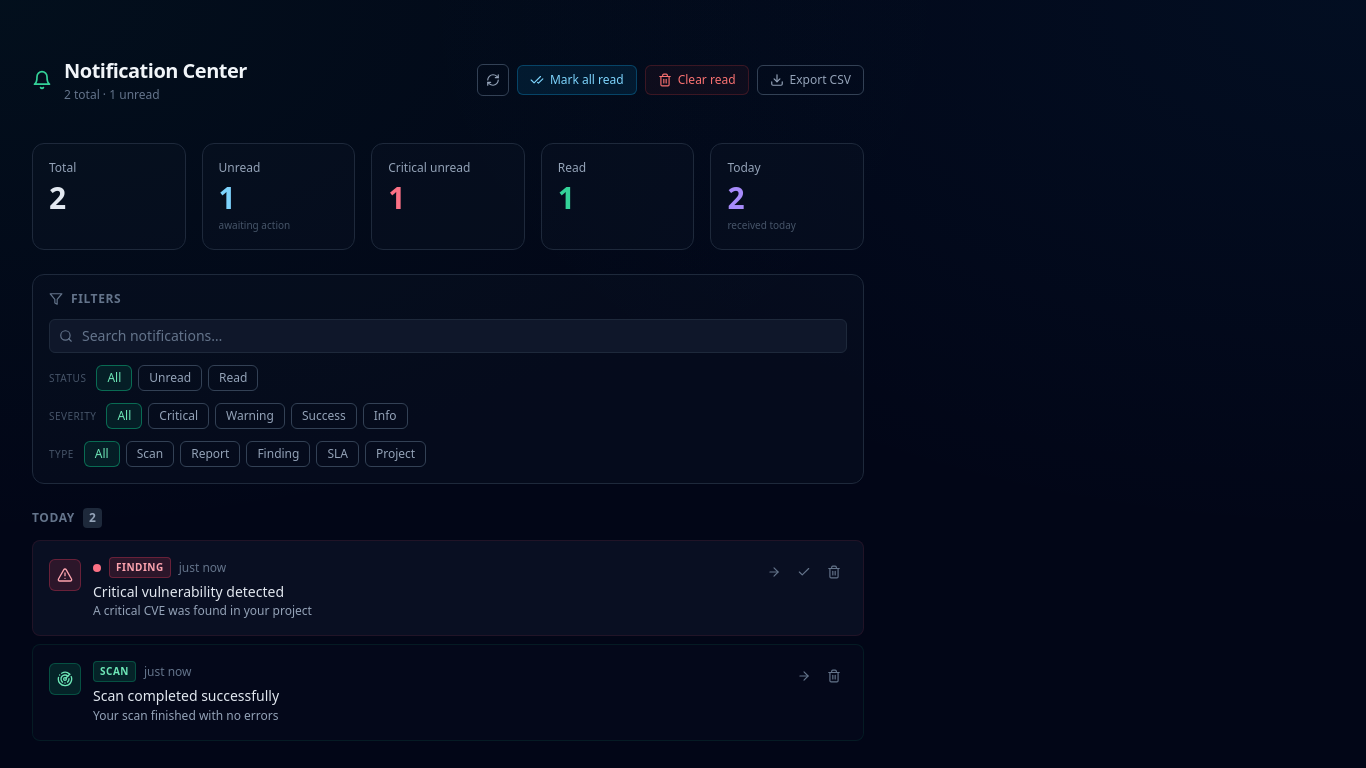
it: Notifications — search › filters by title text via search input
Expected: the text "Scan completed successfully" is shown, [93,686,279,705]
Type "critical" into the field with placeholder "Search notifications…".
click(448, 336); type("critical")  # box [49,319,847,353]
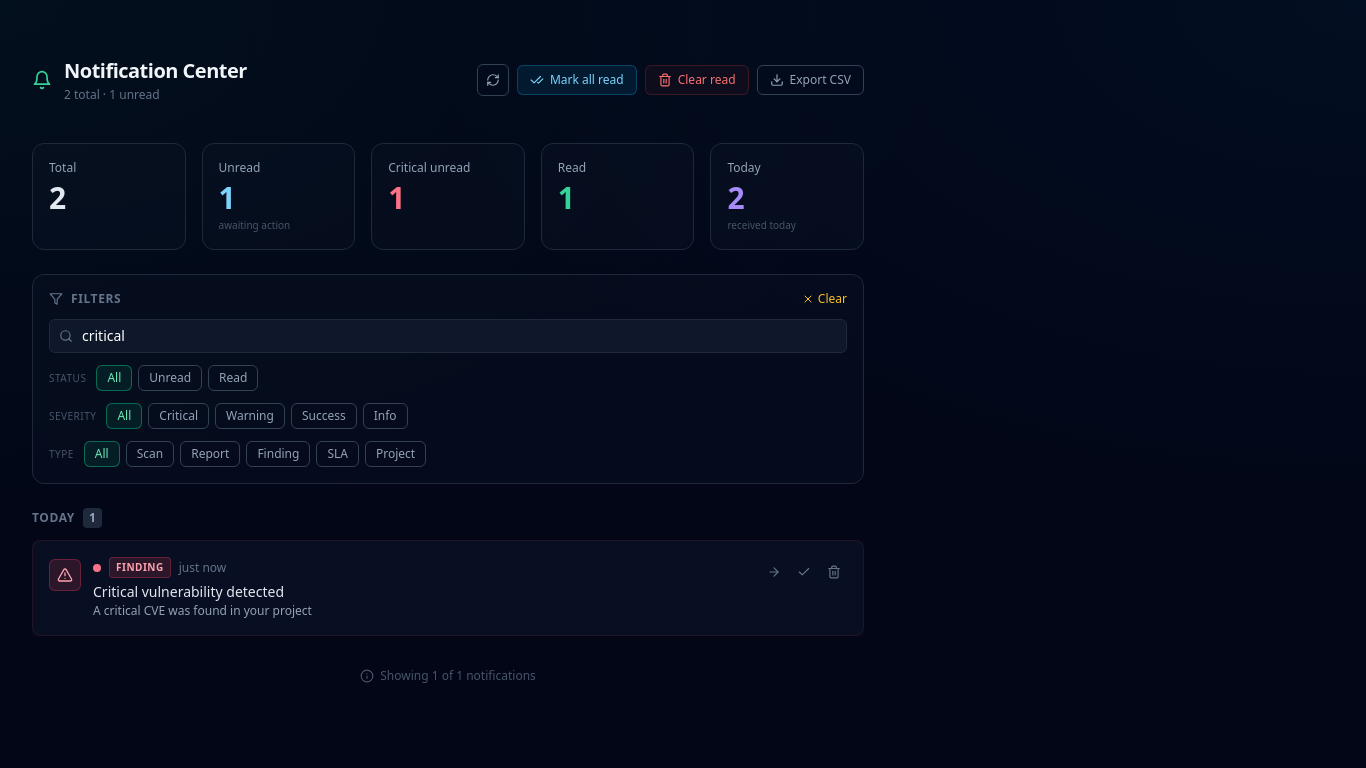
Expected: the text "Critical vulnerability detected" is shown, [93,582,284,601]
Now the text "Scan completed successfully" is gone
